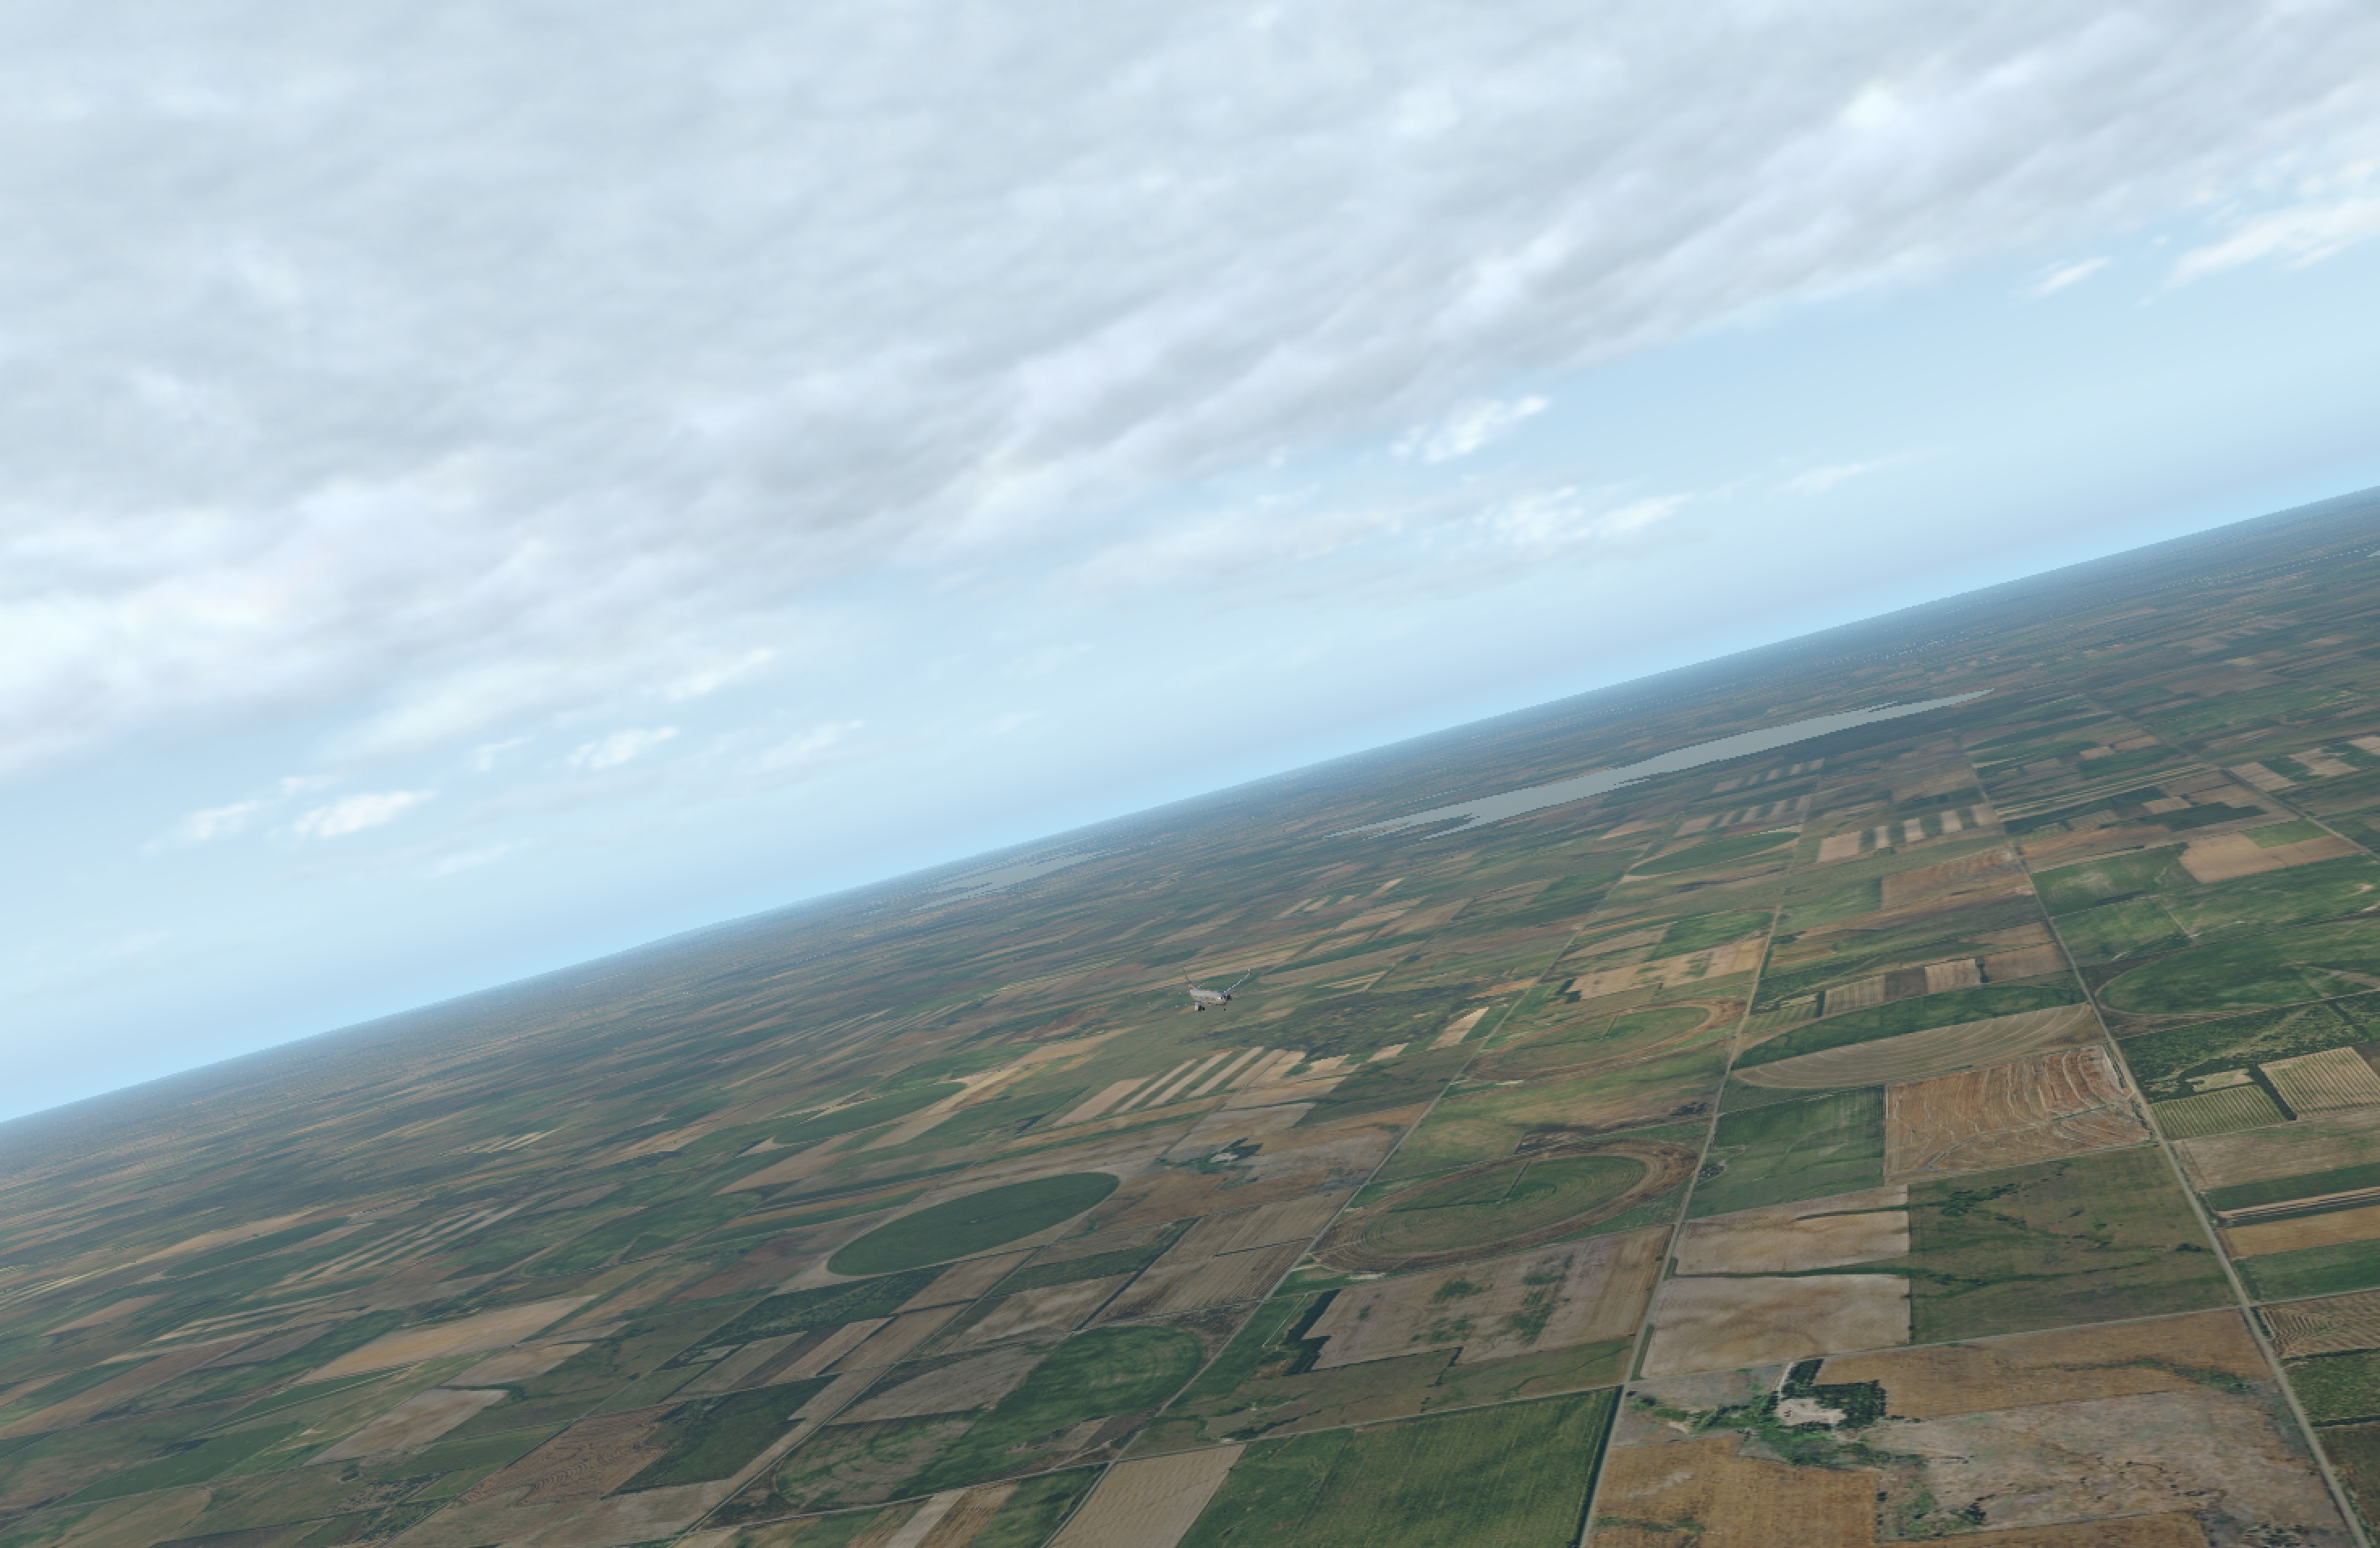aircraft: (1147, 975, 1272, 1022)
